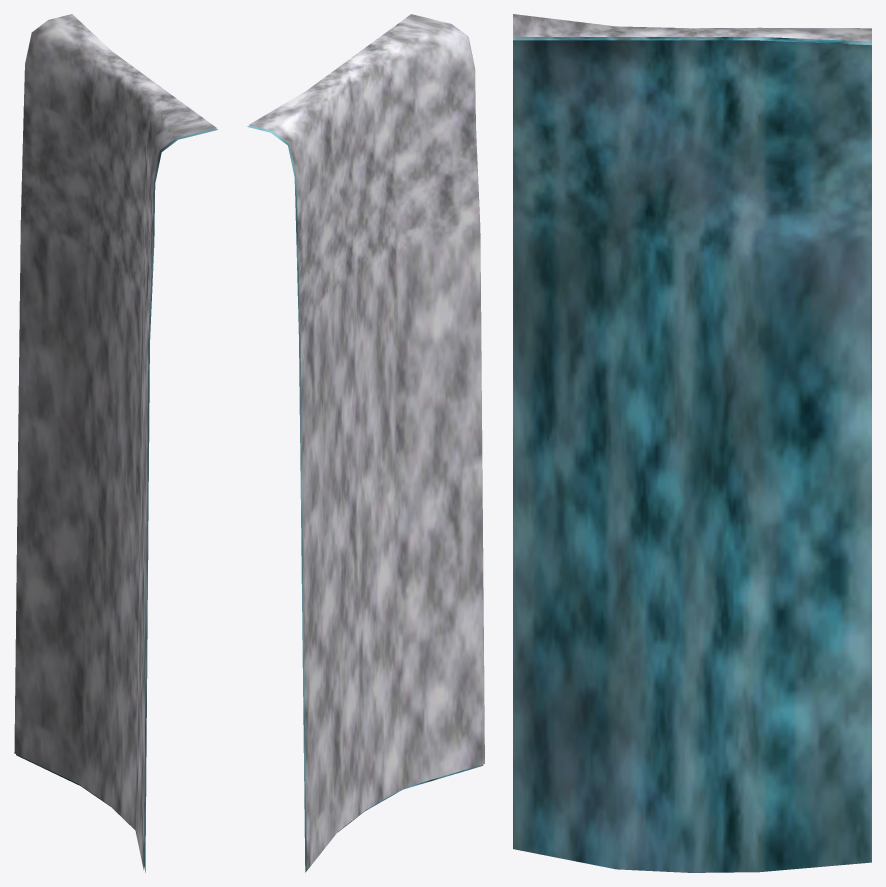
File: OVERHILL_A_01_LINE94.fbx
3 views of the same model, side by side, from view 1: azimuth 30°, elevation 25°; view 2: azimuth 150°, elevation 25°; view 3: azimuth 270°, elevation 25° (orthographic). The views are drawn at different scales.
Visible parts, largest first — view 1: OVERHILL_A_01_LINE94; view 2: OVERHILL_A_01_LINE94; view 3: OVERHILL_A_01_LINE94.
Boxes of the visible parts, box(x1,y1,x2,y2) form: OVERHILL_A_01_LINE94: box(14, 14, 217, 872); OVERHILL_A_01_LINE94: box(247, 14, 484, 872); OVERHILL_A_01_LINE94: box(513, 14, 871, 872).
Bounding box in the file's own units: 13476 × 113071 × 43094.
2 materials, 2 textured.
